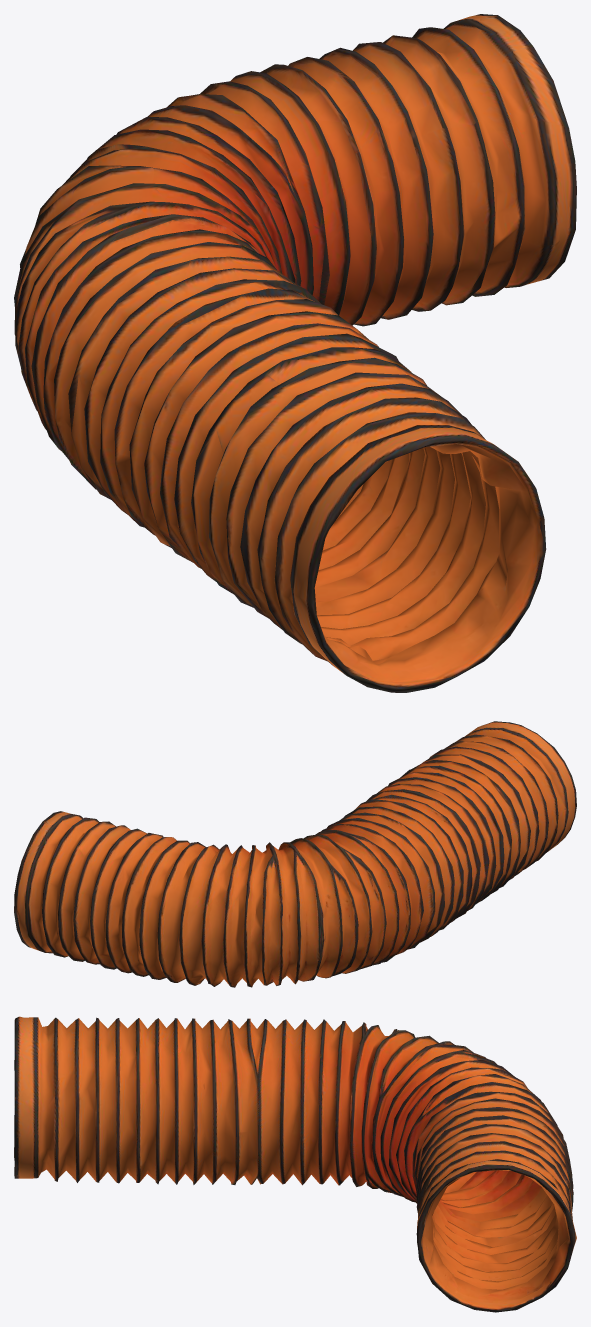
The model's file is flexible_duct_3d_model.fbx.
3 renders of one model, top to bottom at view 1: azimuth 30°, elevation 25°; view 2: azimuth 150°, elevation 25°; view 3: azimuth 270°, elevation 25°, orthographic. The views are drawn at different scales.
Visible parts, largest first — view 1: tripo_node_48c2f067; view 2: tripo_node_48c2f067; view 3: tripo_node_48c2f067.
Part boxes in pixels (bbox=[...]): tripo_node_48c2f067: bbox=[14, 14, 576, 692]; tripo_node_48c2f067: bbox=[14, 721, 576, 987]; tripo_node_48c2f067: bbox=[14, 1016, 576, 1312].
Size of the model in its own units: 0.7237 by 0.2864 by 0.9818.
